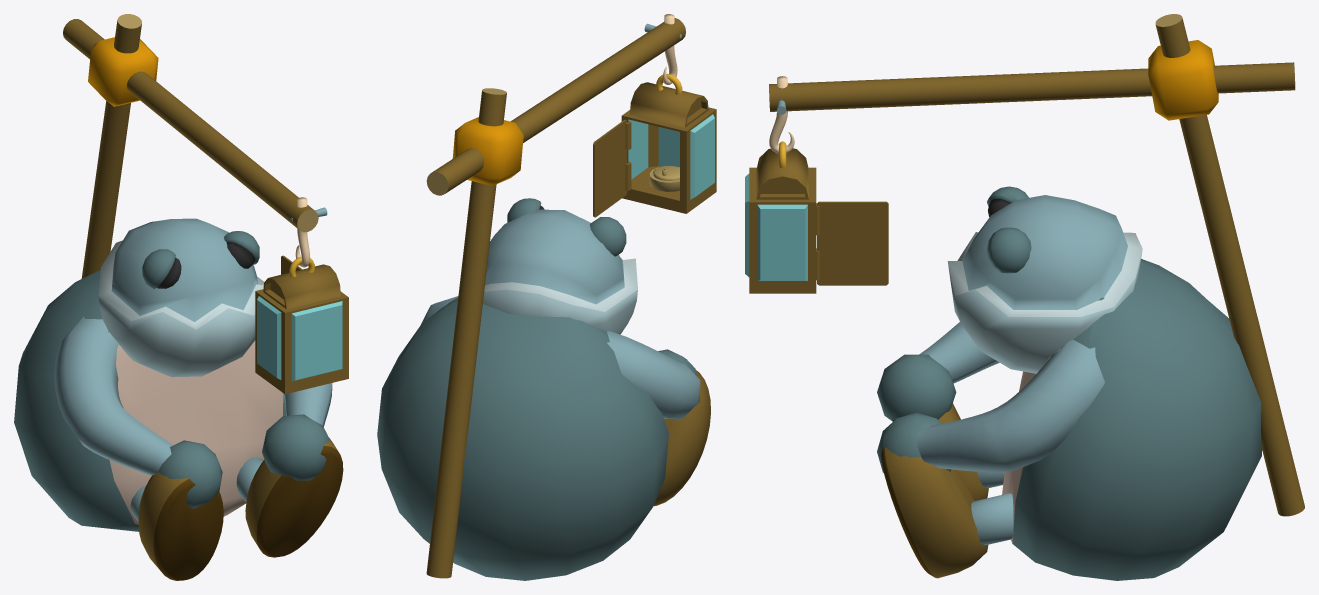
File: mike.fbx
3 views of the same model, side by side, from view 1: azimuth 30°, elevation 25°; view 2: azimuth 150°, elevation 25°; view 3: azimuth 270°, elevation 25° (orthographic). The views are drawn at different scales.
Parts seen in each view (by area): view 1: body, head, feet, arms, LanterWoodB, hands, lanternBody, LanternWoodA, Glasses.002, LanterMetalJunc, Glasses, thighs (+1 smaller); view 2: body, head, LanternWoodA, LanterWoodB, lanternBody, arms, feet, LanterMetalJunc, door, Glasses, Glasses.001, Glasses.002 (+2 smaller); view 3: body, head, arms, LanterWoodB, LanternWoodA, feet, door, hands, lanternBody, LanterMetalJunc, Glasses.001, thighs.
Part boxes in pixels (box(x1,y1,x2,y2)): body: box(14, 269, 285, 531); head: box(98, 218, 264, 377); feet: box(138, 437, 343, 580); arms: box(54, 316, 332, 475); LanterWoodB: box(63, 19, 318, 232); hands: box(158, 414, 329, 508); lanternBody: box(255, 264, 348, 394); LanternWoodA: box(81, 14, 141, 278); Glasses.002: box(291, 301, 342, 381); LanterMetalJunc: box(88, 37, 158, 106); Glasses: box(257, 296, 281, 379); thighs: box(130, 457, 263, 521); body: box(377, 297, 668, 580); head: box(483, 198, 637, 334); LanternWoodA: box(426, 88, 506, 578); LanterWoodB: box(426, 18, 685, 195); lanternBody: box(621, 82, 716, 213); arms: box(421, 296, 700, 419); feet: box(653, 370, 710, 506); LanterMetalJunc: box(452, 117, 523, 185); door: box(593, 119, 627, 217); Glasses: box(690, 114, 714, 199); Glasses.001: box(628, 119, 648, 179); Glasses.002: box(658, 127, 679, 167); body: box(1002, 259, 1262, 580); head: box(947, 186, 1142, 373); arms: box(917, 322, 1104, 472); LanterWoodB: box(769, 62, 1295, 111); LanternWoodA: box(1155, 14, 1304, 516); feet: box(881, 403, 988, 578); door: box(817, 201, 888, 285); hands: box(877, 354, 956, 472); lanternBody: box(749, 148, 816, 293); LanterMetalJunc: box(1148, 40, 1218, 120); Glasses.001: box(757, 204, 807, 280); thighs: box(971, 471, 1013, 544).
Size of the model in its own units: 4.02 by 6.76 by 7.09.
